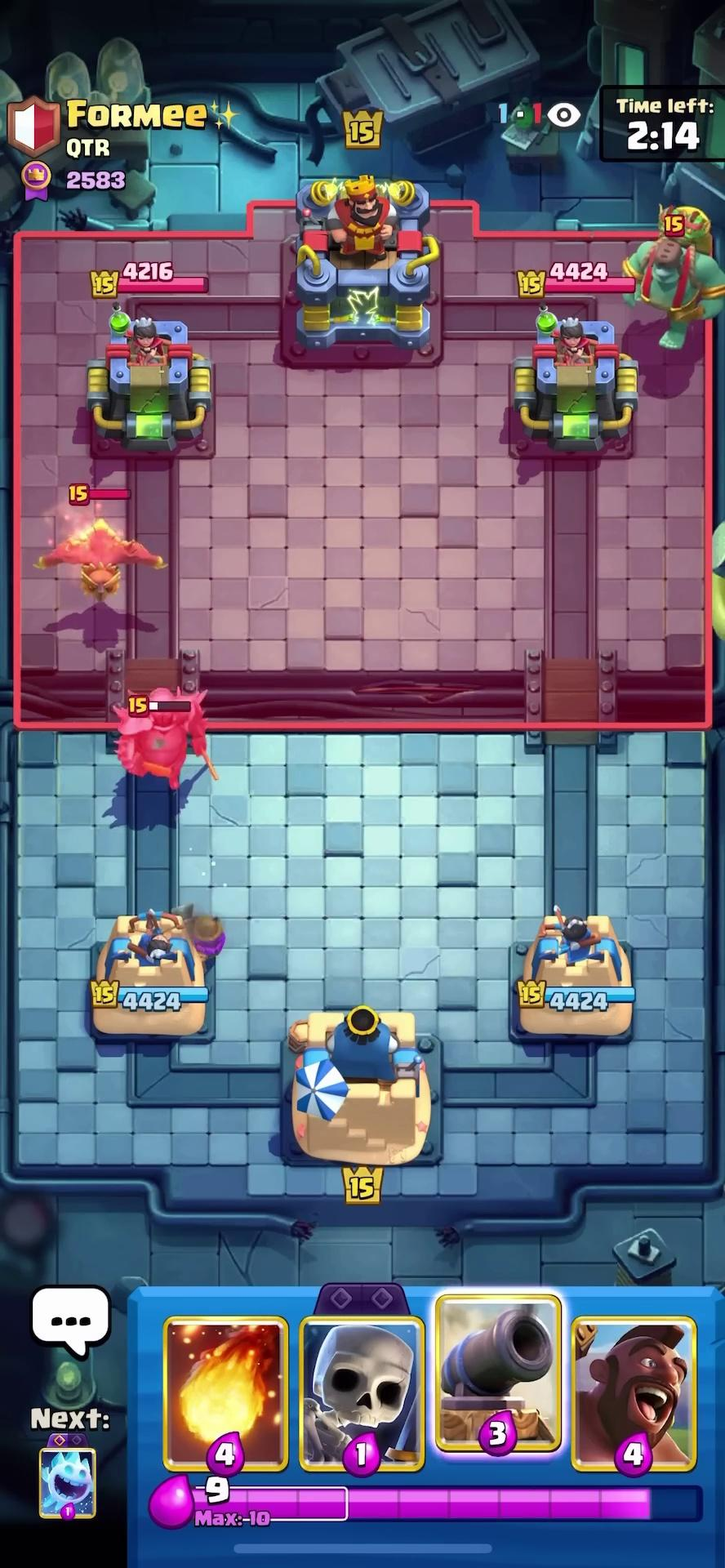musketeer: (176, 898, 231, 978)
